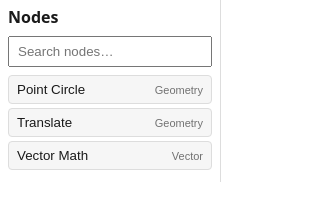
Test case: Palette › shows a no-matches message when nothing matches
The width and height of the screenshot is (320, 199).
Type "zzz" into the search field labelled "Search nodes" at coordinates (110, 52), box [8,36,212,67]
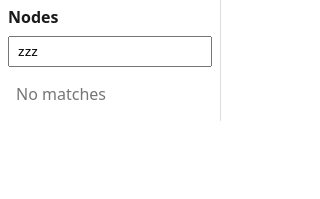
Result: the list item "No matches" is shown at [16,83,106,105]
